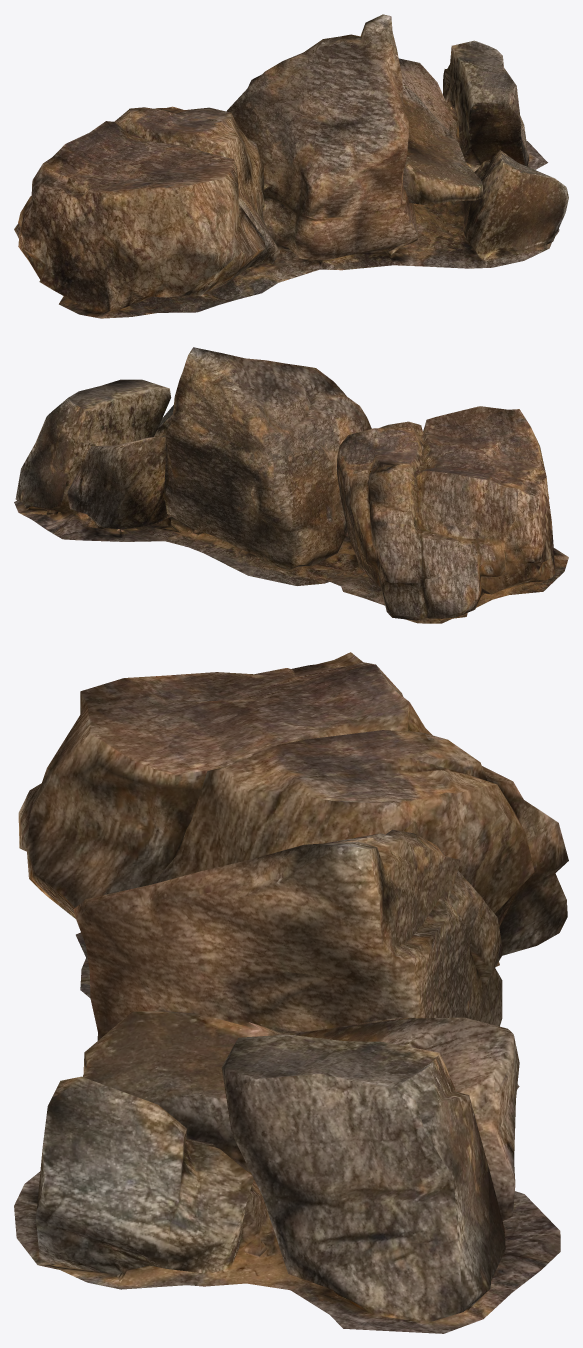
File: namaqualand_boulder_02.glb
3 views of the same model, one above another, from view 1: azimuth 30°, elevation 25°; view 2: azimuth 150°, elevation 25°; view 3: azimuth 270°, elevation 25° (orthographic). The views are drawn at different scales.
Parts seen in each view (by area): view 1: boulder_02; view 2: boulder_02; view 3: boulder_02.
Part boxes in pixels (x1,y1,x2,y2): boulder_02: (14,14,568,318); boulder_02: (14,347,568,623); boulder_02: (14,652,568,1333).
Size of the model in its own units: 2.51 by 0.8788 by 1.23.
1 material, 1 textured.
